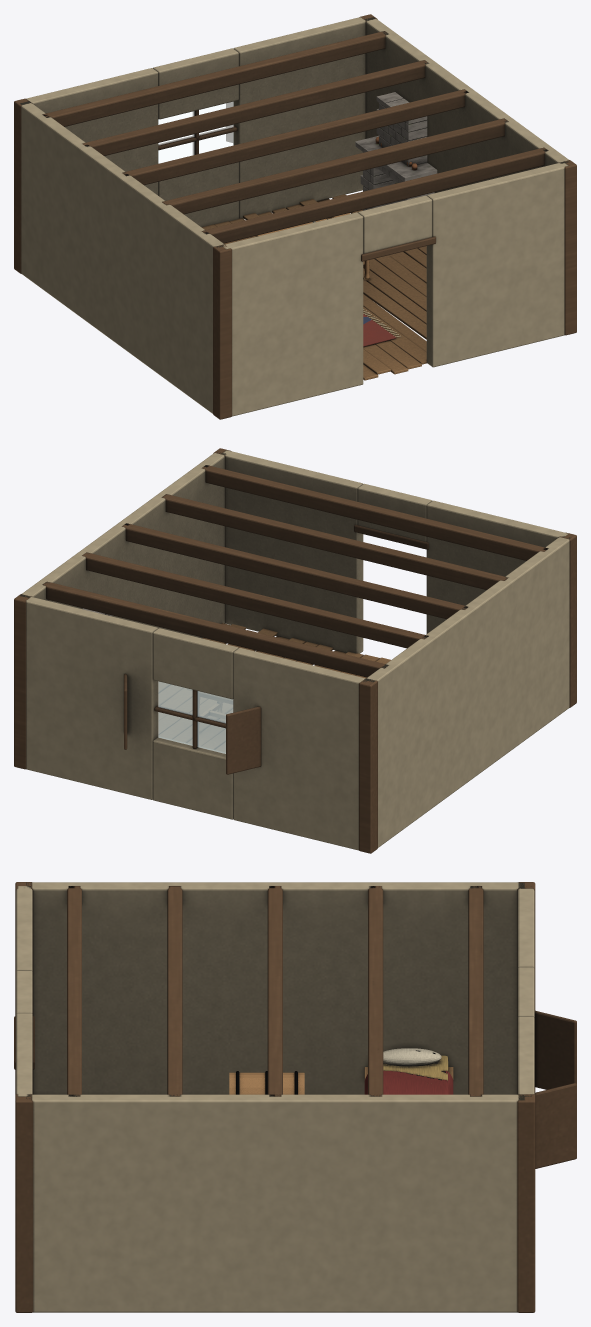
The model's file is casa_interior_6x6.glb.
3 views of the same model, one above another, from view 1: azimuth 30°, elevation 25°; view 2: azimuth 150°, elevation 25°; view 3: azimuth 270°, elevation 25° (orthographic). The views are drawn at different scales.
Parts seen in each view (by area): view 1: casa_interior_6x6_tronco, movel_lareira, vidro, movel_tapete; view 2: casa_interior_6x6_tronco, vidro; view 3: casa_interior_6x6_tronco, movel_cama, movel_bau.
Part boxes in pixels (x1,y1,x2,y2): casa_interior_6x6_tronco: (14,14,576,419); movel_lareira: (355,92,437,210); vidro: (158,102,233,163); movel_tapete: (363,309,400,346); casa_interior_6x6_tronco: (14,448,576,853); vidro: (158,681,233,753); casa_interior_6x6_tronco: (14,882,576,1312); movel_cama: (364,1048,453,1094); movel_bau: (229,1071,304,1094).
Size of the model in its own units: 6.22 by 2.85 by 6.73.
Materials: 24 (7 with a texture image).
